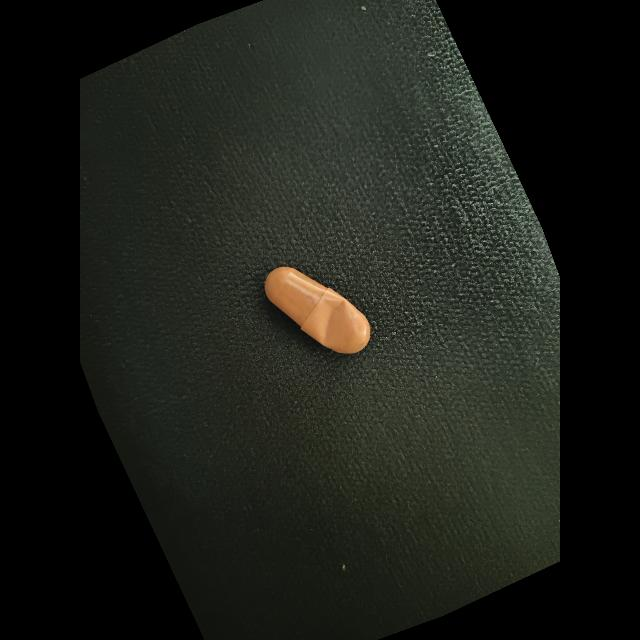Defective Capsule: (320, 297, 357, 345)
